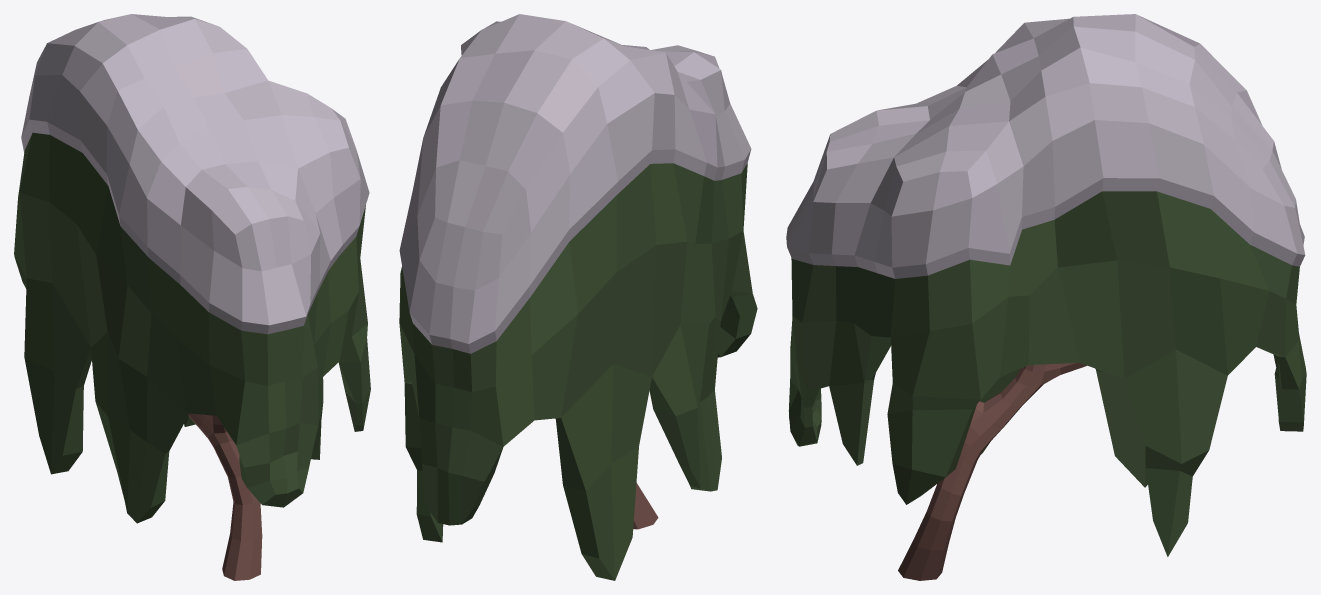
Rendered from willow_snow_1.glb.
The picture shows the model from 3 angles, left to right: view 1: azimuth 30°, elevation 25°; view 2: azimuth 150°, elevation 25°; view 3: azimuth 270°, elevation 25°; orthographic projection. The views are drawn at different scales.
Visible parts, largest first — view 1: Willow_Snow_1; view 2: Willow_Snow_1; view 3: Willow_Snow_1.
Part boxes in pixels (x1,y1,x2,y2): Willow_Snow_1: (14, 14, 370, 580); Willow_Snow_1: (399, 14, 757, 580); Willow_Snow_1: (786, 14, 1306, 580).
Bounding box in the file's own units: 3.48 × 7.04 × 6.16.
